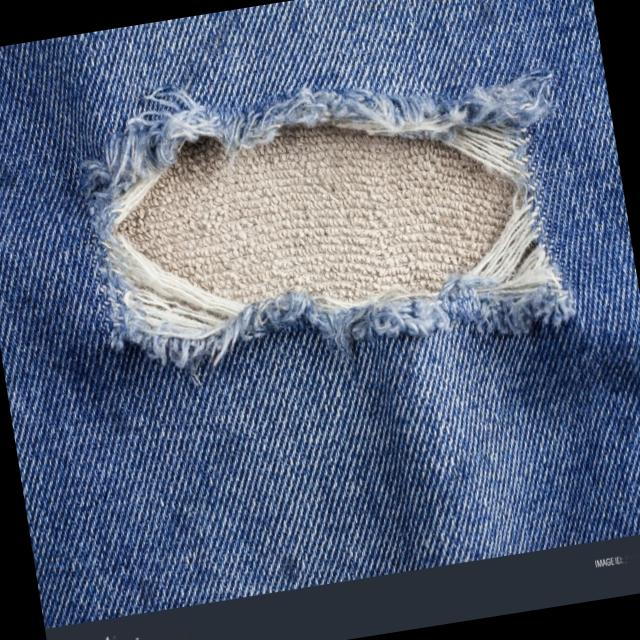cut: (72, 36, 574, 398)
